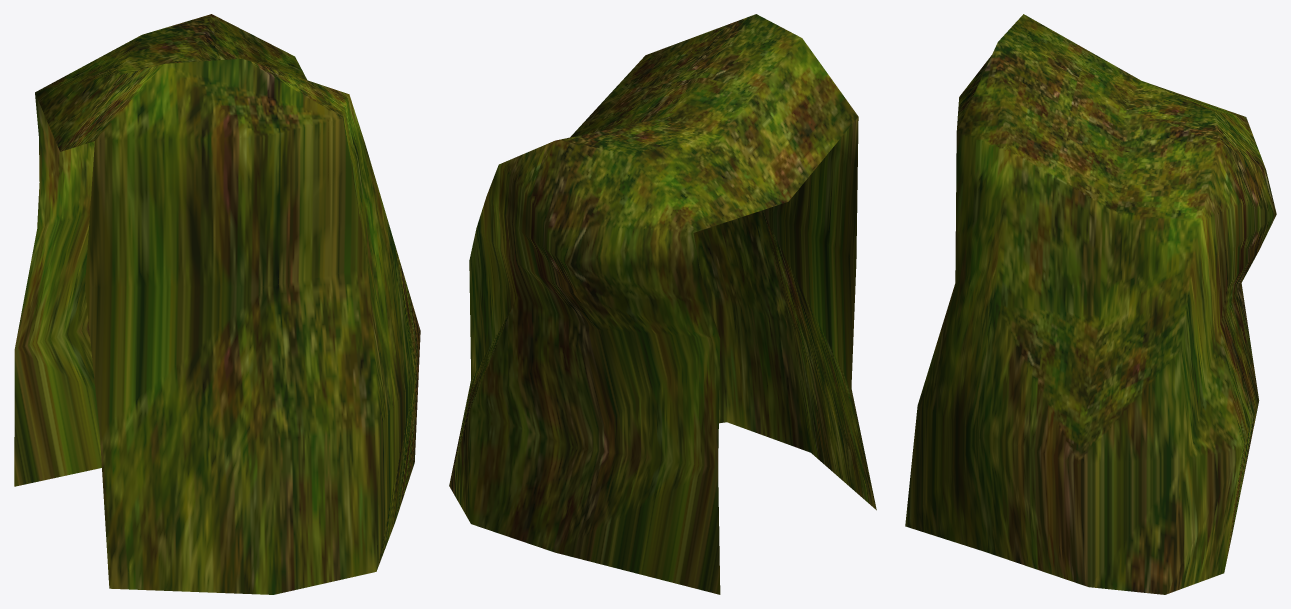
Rendered from TROLLHOLE02_BOX324.fbx.
The picture shows the model from 3 angles, left to right: view 1: azimuth 30°, elevation 25°; view 2: azimuth 150°, elevation 25°; view 3: azimuth 270°, elevation 25°; orthographic projection. The views are drawn at different scales.
Visible parts, largest first — view 1: TROLLHOLE02_BOX324; view 2: TROLLHOLE02_BOX324; view 3: TROLLHOLE02_BOX324.
Boxes of the visible parts, x1,y1,x2,y2 form: TROLLHOLE02_BOX324: [14, 14, 420, 594]; TROLLHOLE02_BOX324: [449, 14, 876, 594]; TROLLHOLE02_BOX324: [905, 14, 1276, 594].
Bounding box in the file's own units: 53153 × 69295 × 51235.
1 material, 1 textured.
